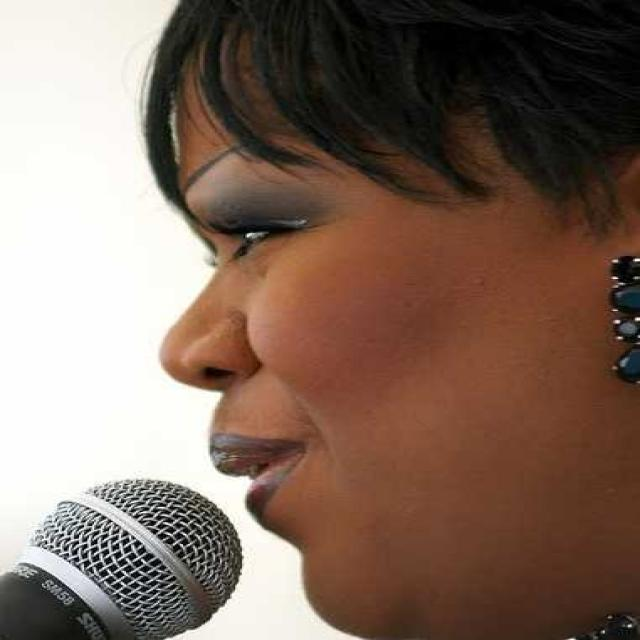microphone: (5, 476, 244, 640)
